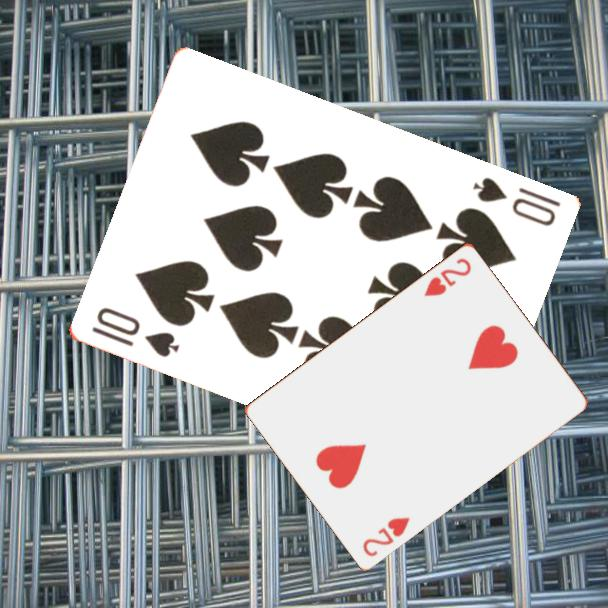h02: (359, 513, 413, 559), (420, 254, 474, 299)
s10: (87, 304, 182, 361), (468, 174, 563, 230)
